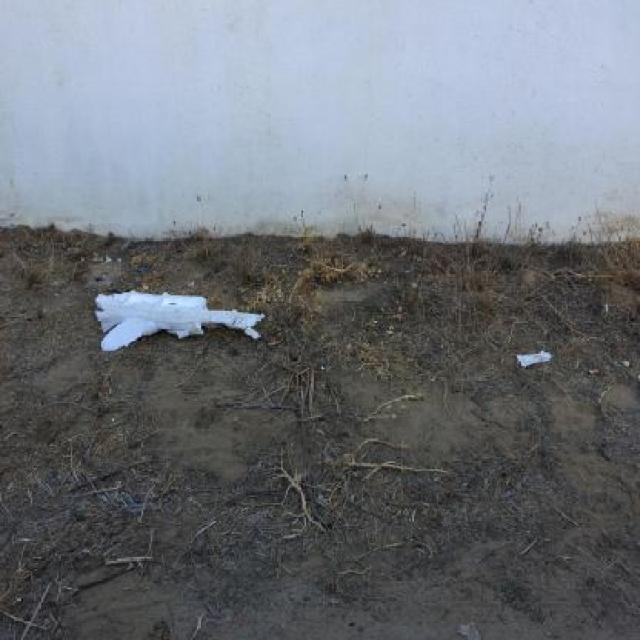foam: (93, 290, 265, 352)
paper: (516, 350, 552, 367)
